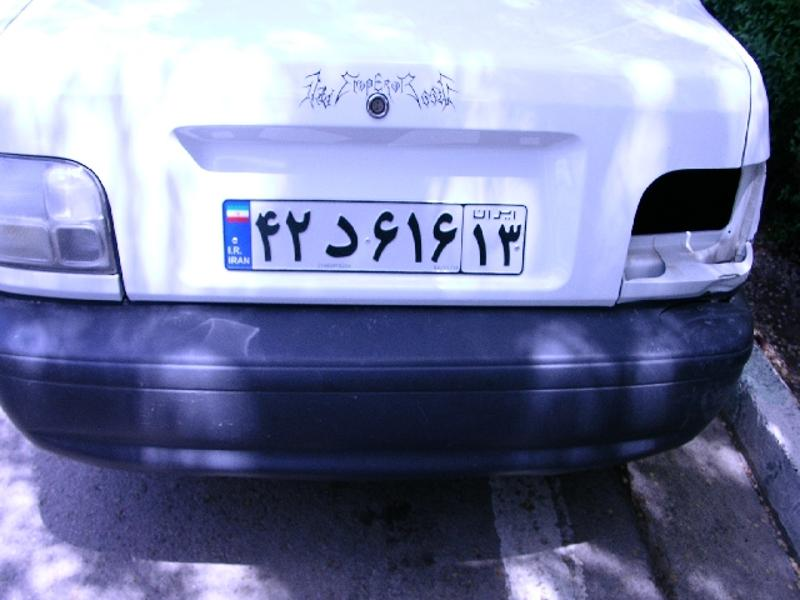Plate: (223, 198, 524, 273)
